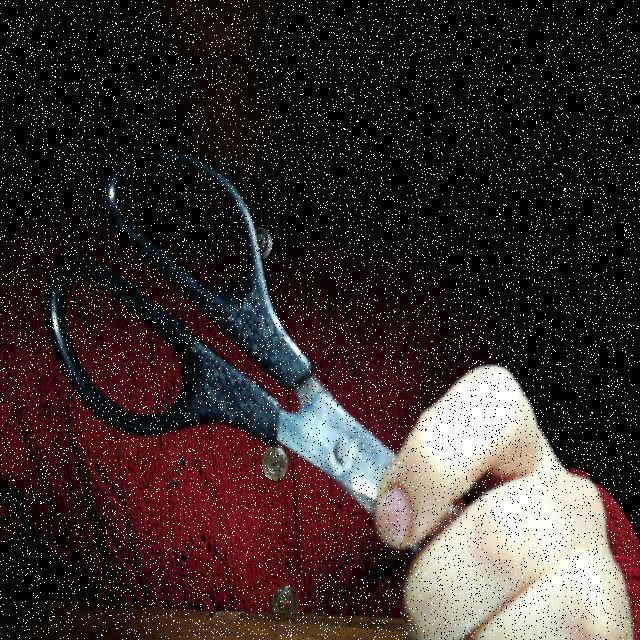scissors: (39, 140, 594, 640)
